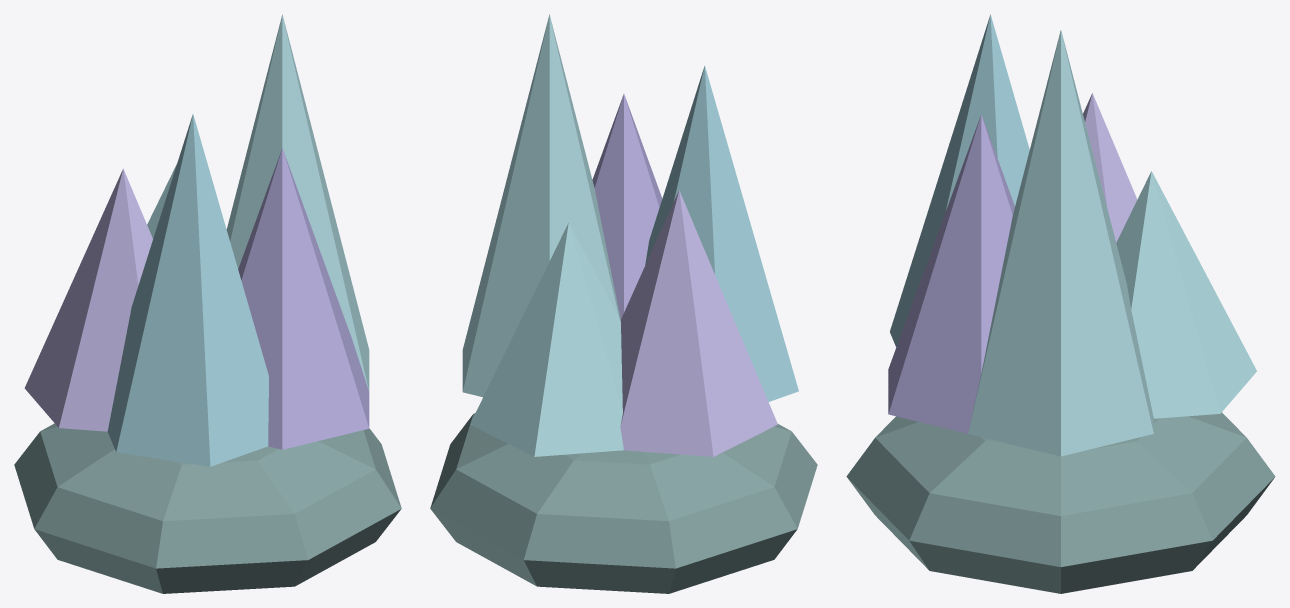
The model's file is 4098_frostcap.glb.
3 views of the same model, side by side, from view 1: azimuth 30°, elevation 25°; view 2: azimuth 150°, elevation 25°; view 3: azimuth 270°, elevation 25° (orthographic). The views are drawn at different scales.
Bounding box in the file's own units: 0.56 × 0.812 × 0.56.
